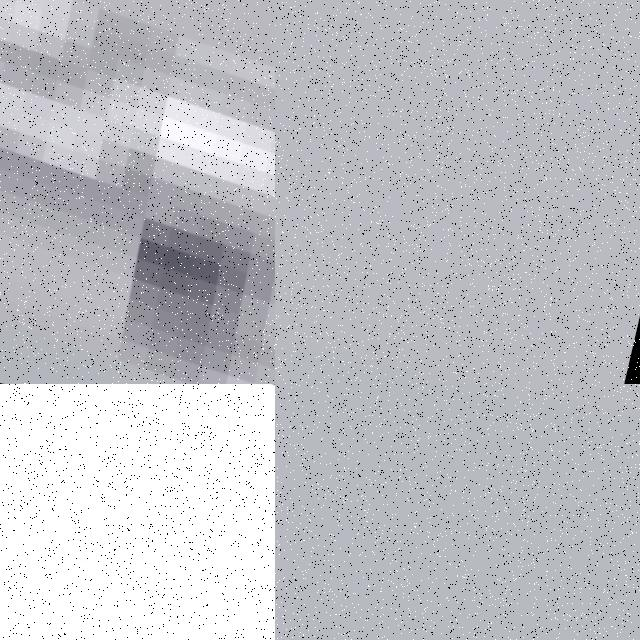drone: (0, 0, 275, 384), (0, 384, 275, 640)
